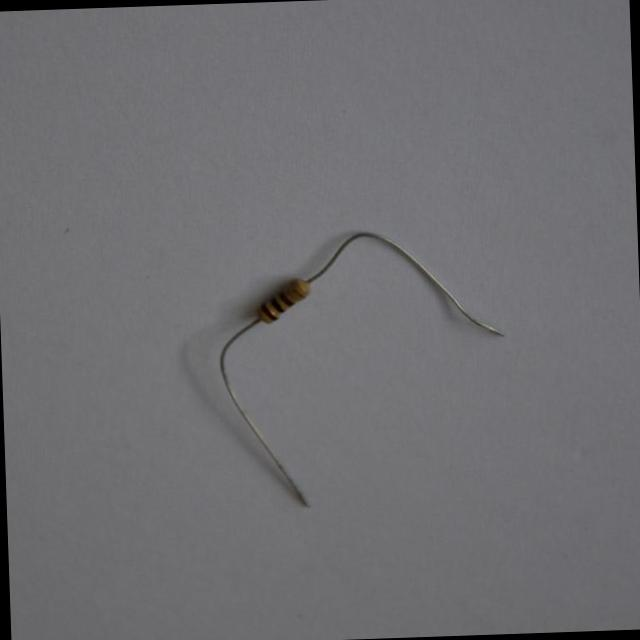Resistor: (258, 280, 310, 323)
black: (269, 297, 285, 314)
brown: (260, 302, 277, 320), (277, 289, 294, 306)
